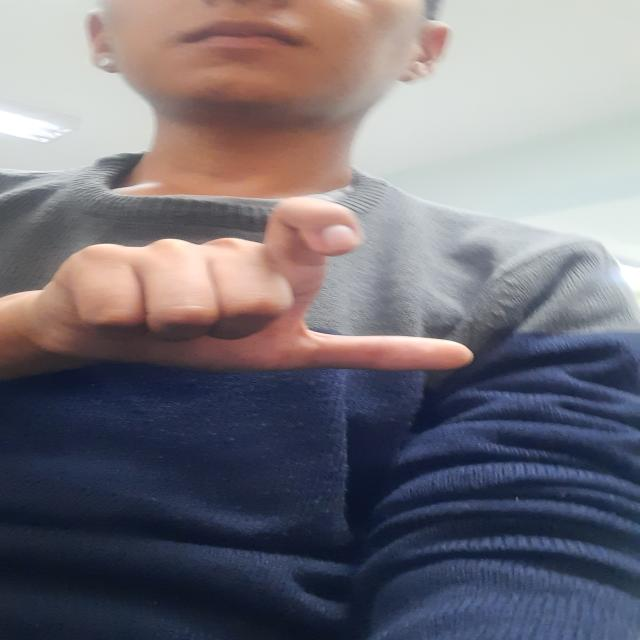G: (0, 190, 502, 378)
